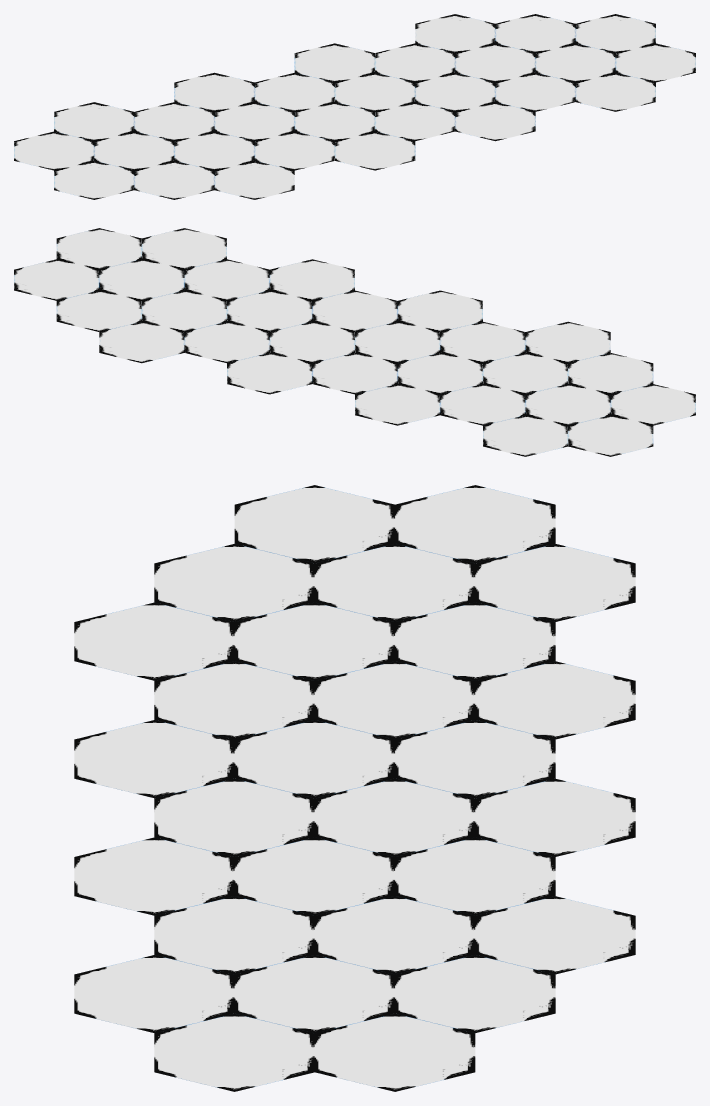
Rendered from mole_archer_stage.unity_28.obj.
The picture shows the model from 3 angles, top to bottom: view 1: azimuth 30°, elevation 25°; view 2: azimuth 150°, elevation 25°; view 3: azimuth 270°, elevation 25°; orthographic projection. The views are drawn at different scales.
Parts seen in each view (by area): view 1: unit, unit_start_point_B, unit_start_point_A, red_tower, yellow_tower; view 2: unit, unit_start_point_A, unit_start_point_B, red_tower, yellow_tower; view 3: unit, red_tower, yellow_tower, unit_start_point_B, unit_start_point_A.
Boxes of the visible parts, left/top/right/bottom form: unit: left=14, top=14, right=695, bottom=199; unit_start_point_B: left=94, top=131, right=174, bottom=170; unit_start_point_A: left=535, top=43, right=615, bottom=82; red_tower: left=575, top=14, right=655, bottom=52; yellow_tower: left=54, top=161, right=134, bottom=199; unit: left=56, top=228, right=653, bottom=456; unit_start_point_A: left=99, top=259, right=184, bottom=300; unit_start_point_B: left=525, top=384, right=610, bottom=425; red_tower: left=14, top=259, right=99, bottom=300; yellow_tower: left=610, top=384, right=695, bottom=425; unit: left=74, top=485, right=635, bottom=1091; red_tower: left=315, top=1013, right=475, bottom=1091; yellow_tower: left=234, top=485, right=394, bottom=563; unit_start_point_B: left=315, top=544, right=475, bottom=621; unit_start_point_A: left=234, top=955, right=394, bottom=1032.
Bounding box in the file's own units: 62 × 0 × 24.25.
Materials: 1 (1 with a texture image).
